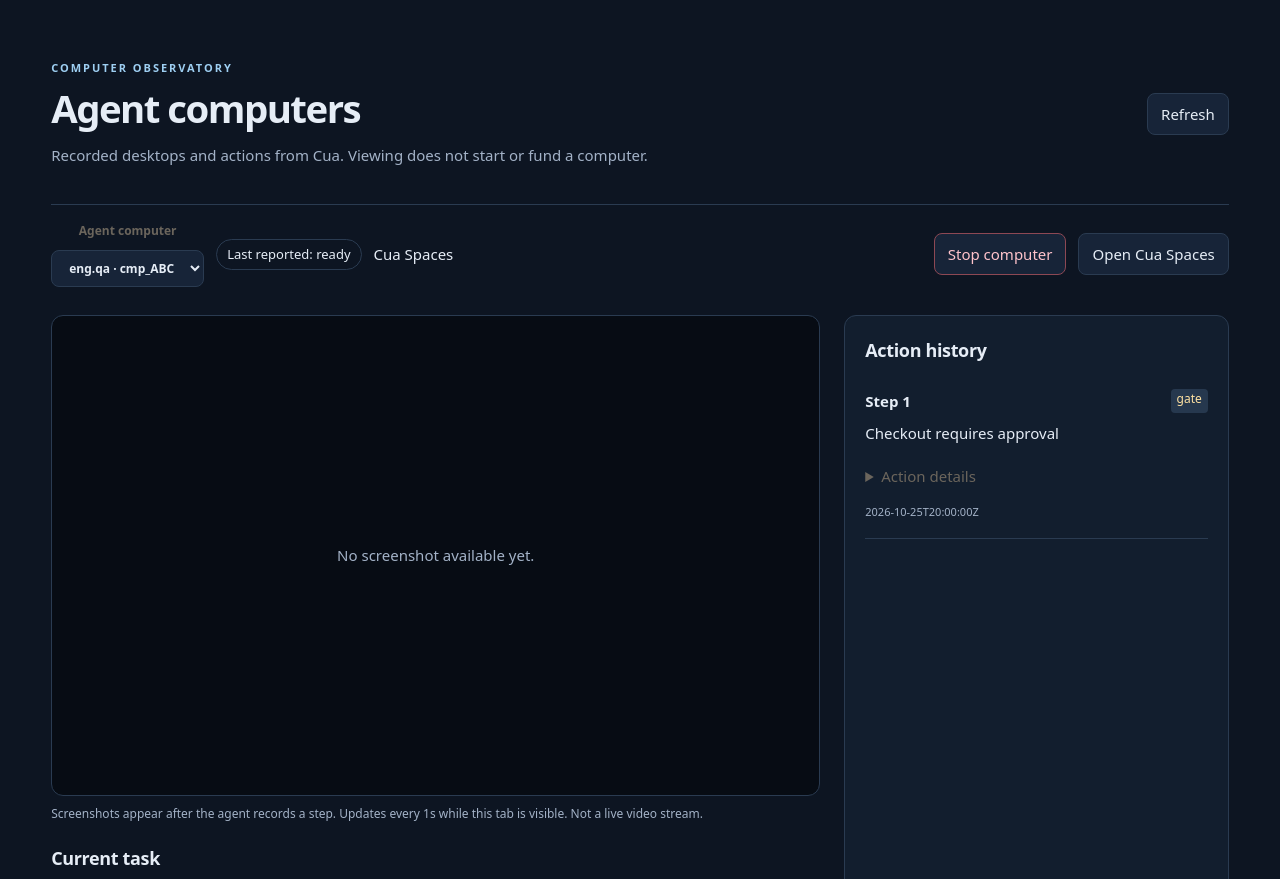
it: AgentComputerViewer › reports screenshot absence and API errors honestly
Click the button "Refresh": (1188, 114) x1=1147 y1=93 x2=1229 y2=135
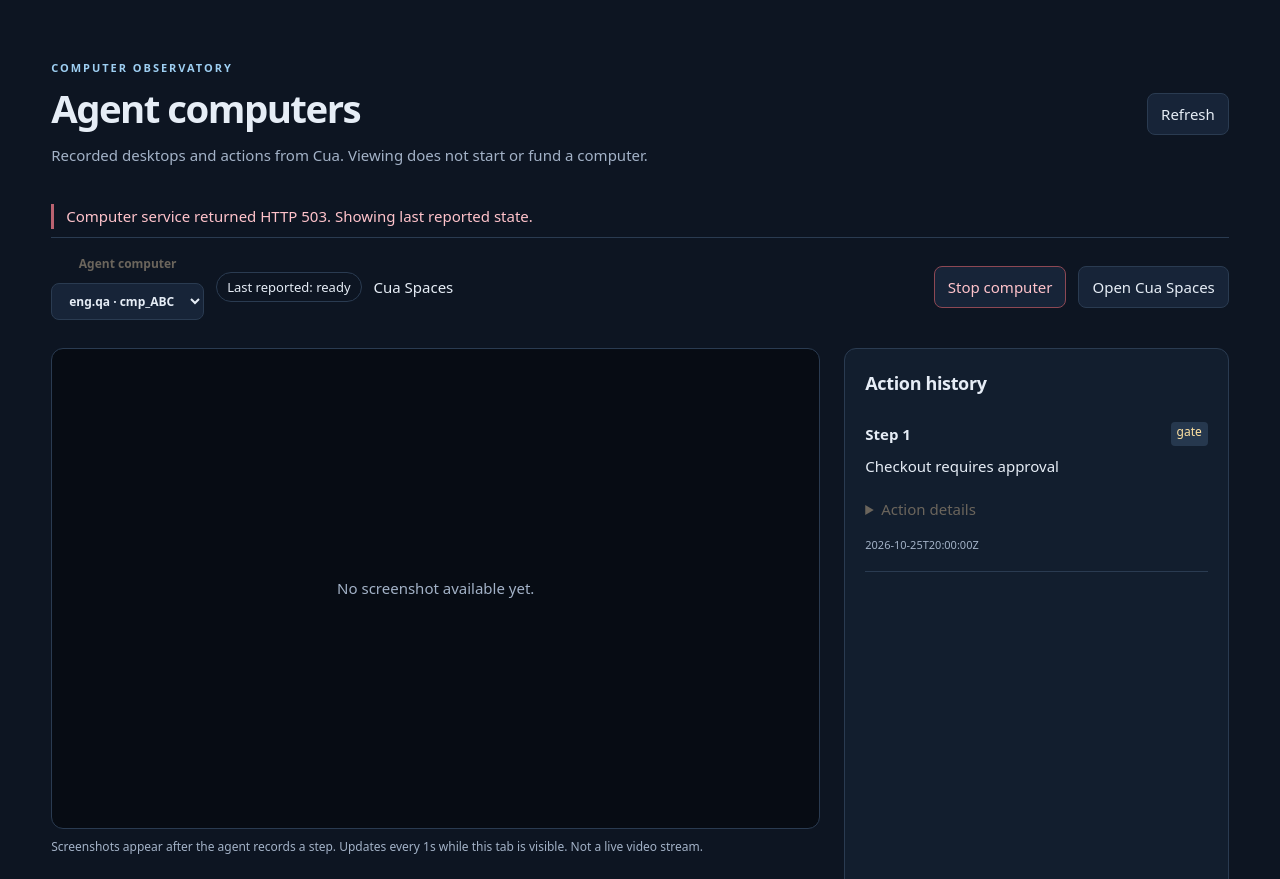
Result: the text "HTTP 503" is shown at x1=66 y1=206 x2=331 y2=226
Result: the text "Showing last reported state" is shown at x1=335 y1=206 x2=533 y2=226
